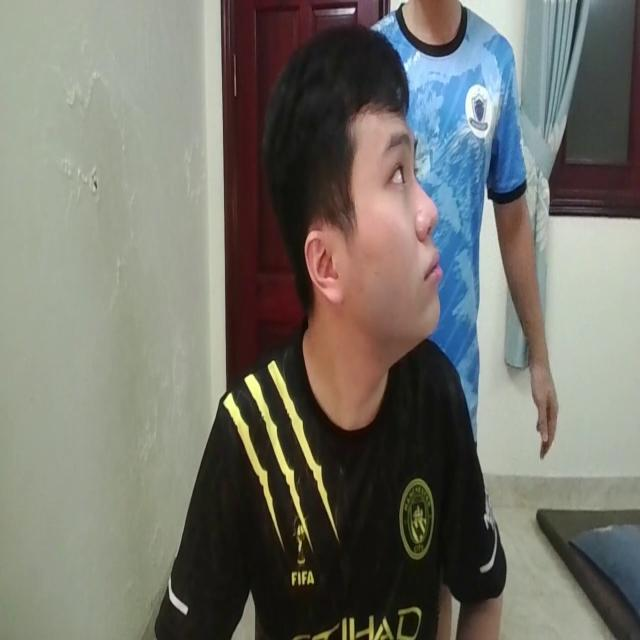extra_person: (376, 2, 558, 457)
student: (150, 24, 502, 640)
